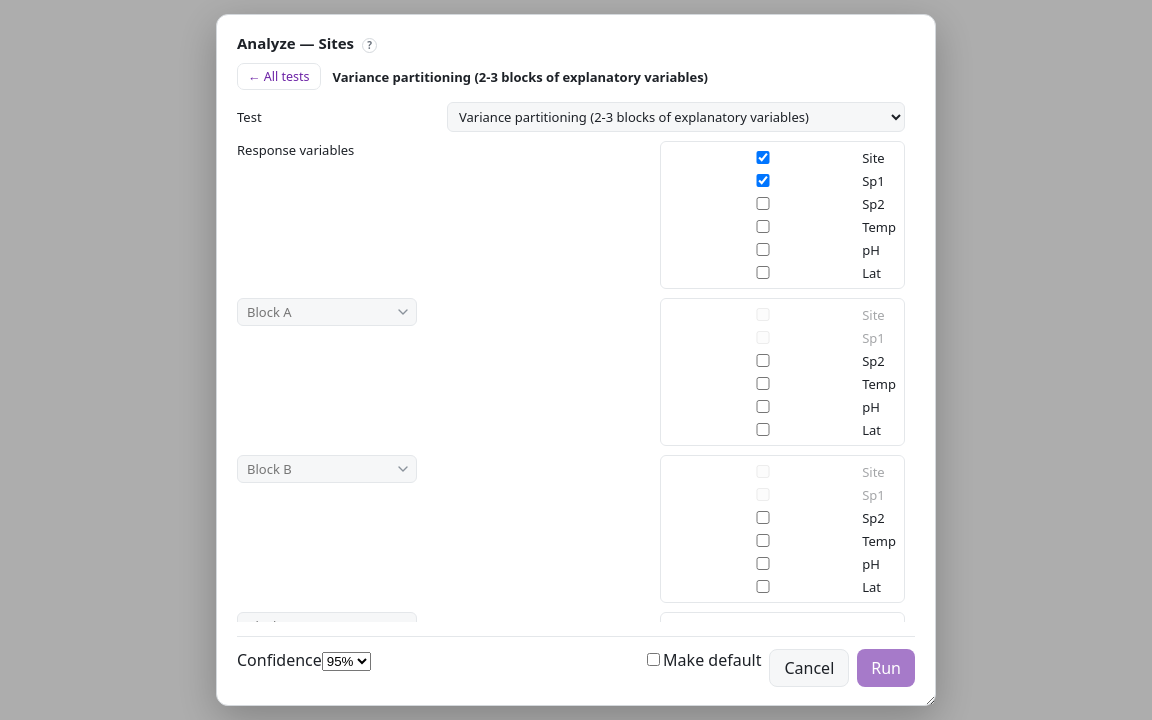
Test: variance partitioning › will not run with only one block — with one block there is nothing to partition
Click the 2nd checkbox labelled "Temp" at (763, 384), box [673,377,853,390]
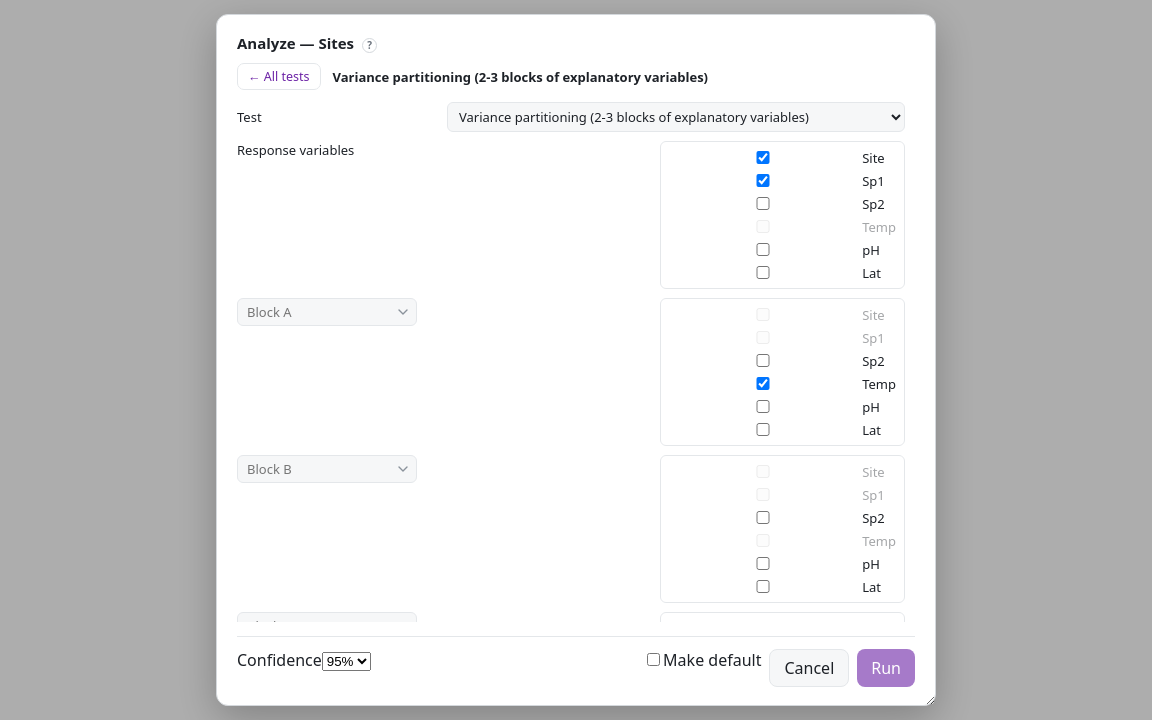
expect the button "Run" is disabled: met, box [857,649,915,687]
Click the 3rd checkbox labelled "pH" at (763, 564), box [673,557,853,570]
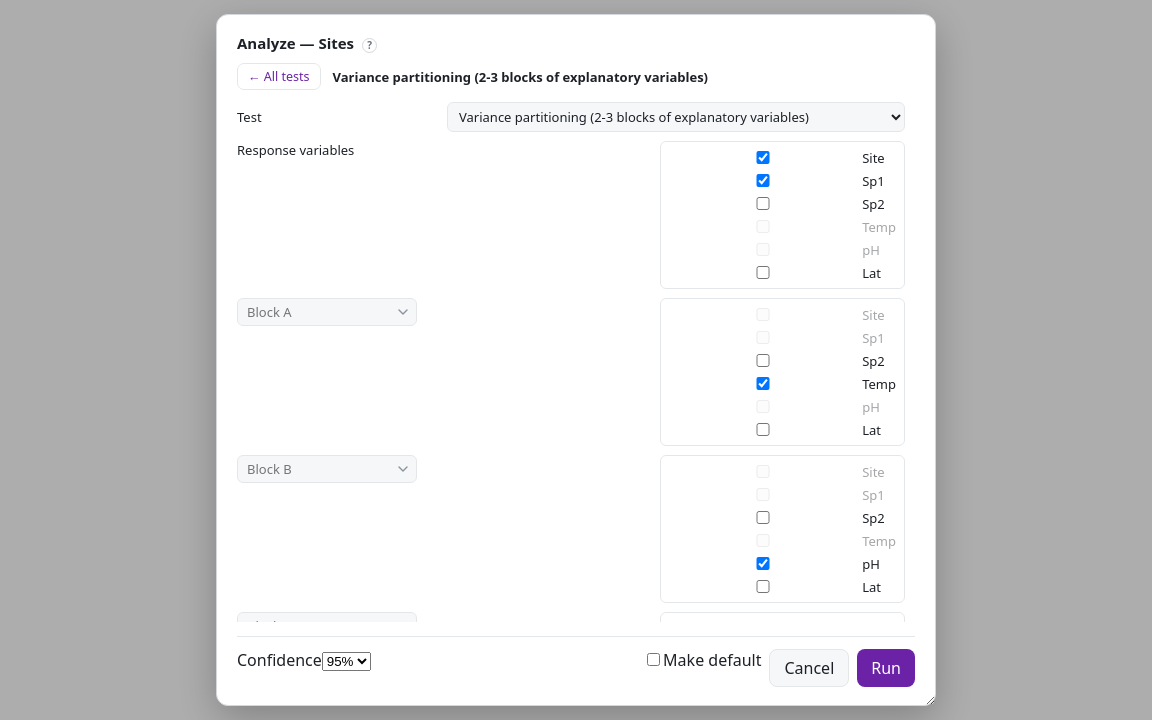
expect the button "Run" is enabled: met, box [857,649,915,687]
